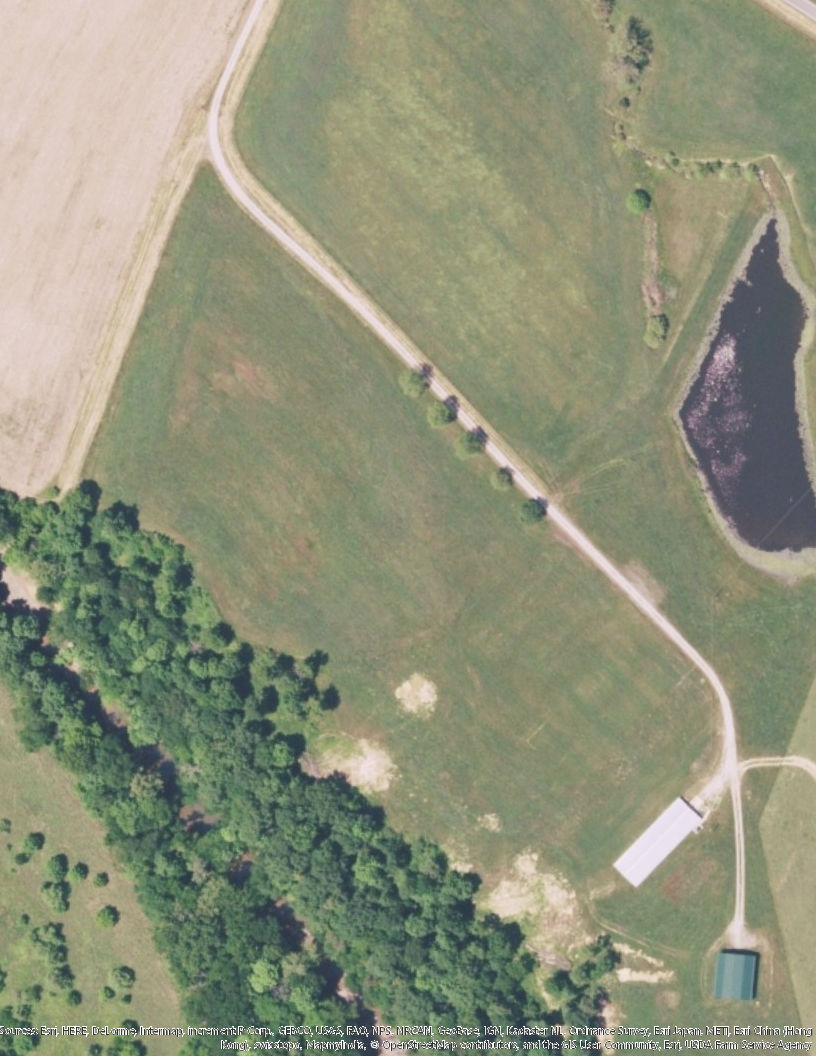cafo: (611, 793, 703, 889)
